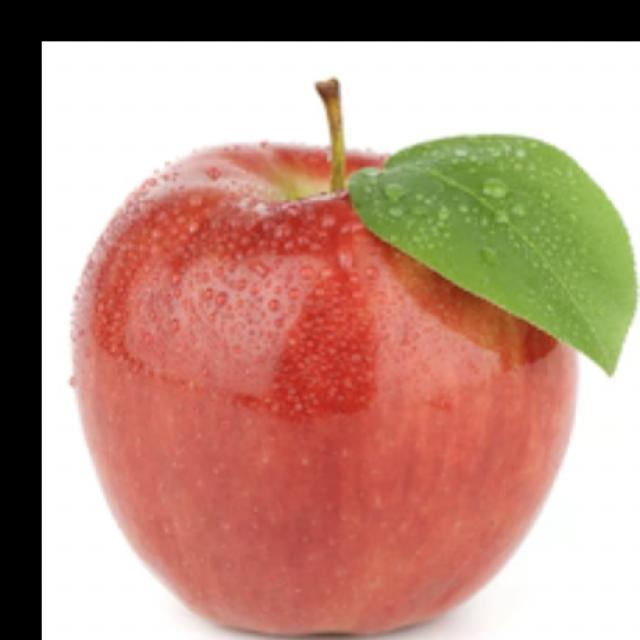Fresh Apple: (73, 146, 588, 640)
